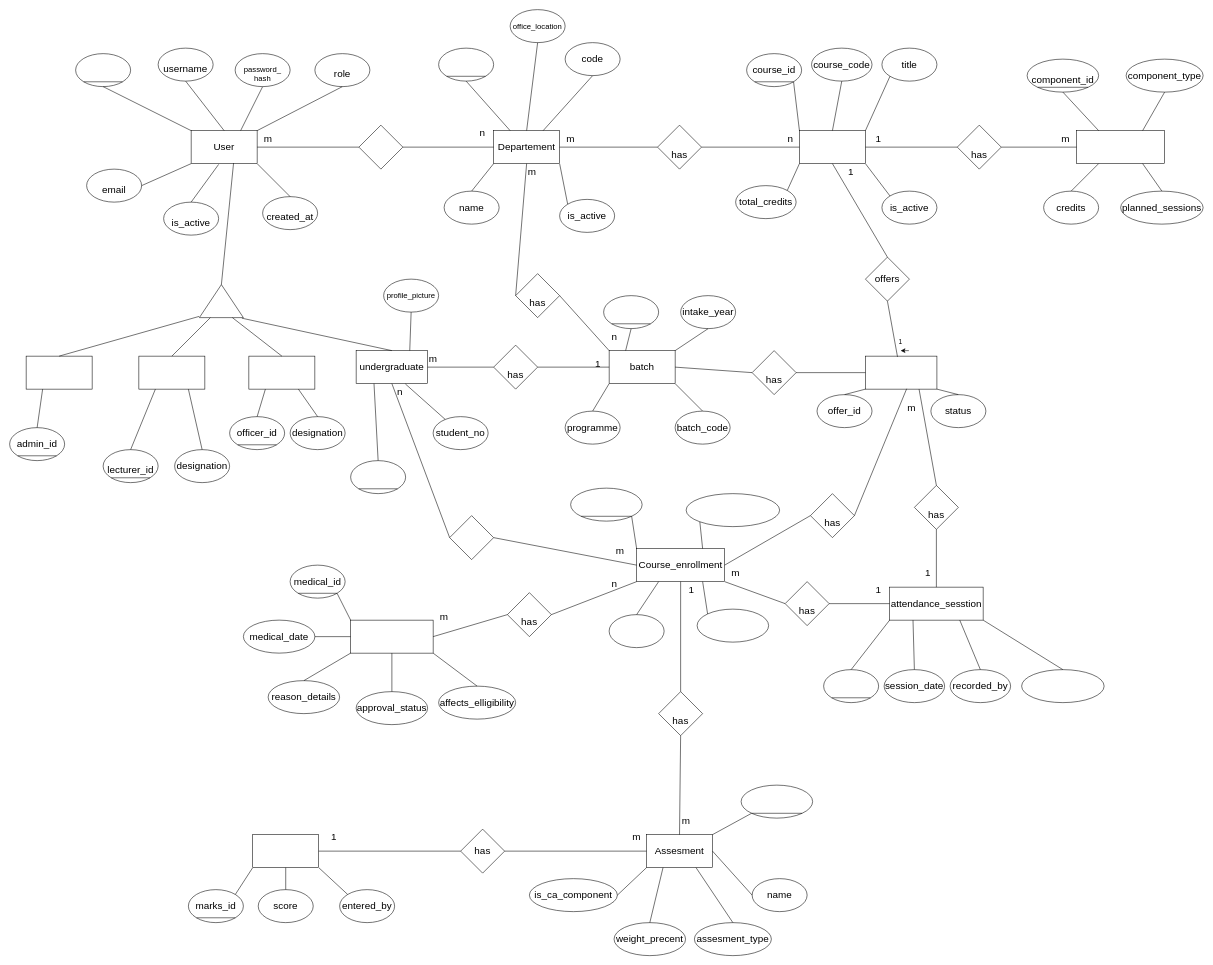
The diagram is 1213 pixels wide and 965 high, and some of its shapes have lost their labels. Each missing label, with the centre of its shape:
"Admin" goes at (59,372).
"assesment_id" goes at (777,801).
"atempt_no" goes at (636,631).
"batch_id" goes at (631,312).
"Belongs to" goes at (380,147).
"Course" goes at (832,147).
"course_component" goes at (1120,147).
"Course_offering" goes at (901,372).
"departement_id" goes at (466,64).
"enrollement_status" goes at (733,510).
"enrollment_id" goes at (606,504).
"enrolls" goes at (471,537).
"is a" goes at (221,301).
"Lecturer" goes at (171,372).
"Mark" goes at (285,851).
"medical_records" goes at (391,636).
"session_id" goes at (851,686).
"student_id" goes at (378,477).
"student_status" goes at (733,625).
"Technical_officer" goes at (281,372).
"timetable_entry_id" goes at (1062,686).
"user_id" goes at (103,70).
